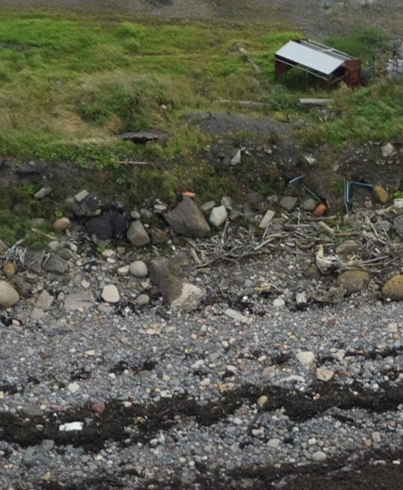cuboid: (268, 28, 369, 95)
scattered_barrel: (288, 171, 392, 215)
white_in_green: (43, 400, 104, 450), (169, 171, 213, 213)
